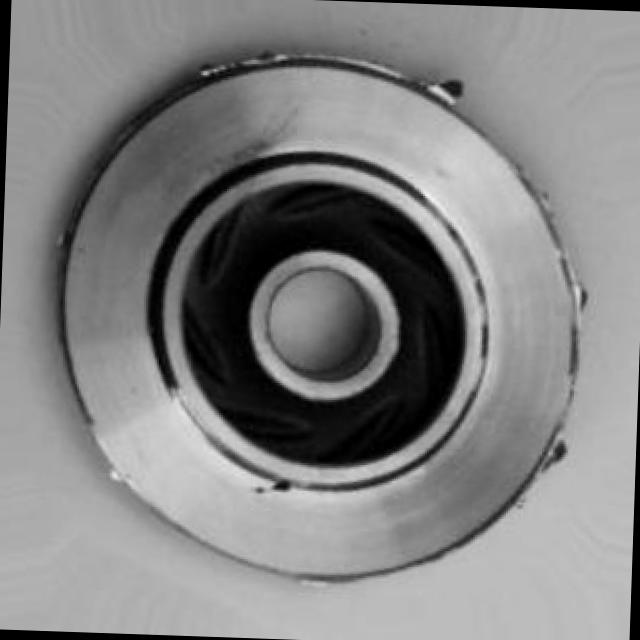Defect: (392, 62, 487, 115)
